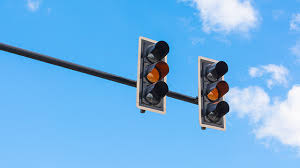traffic light: (135, 31, 174, 122), (193, 52, 233, 135)
